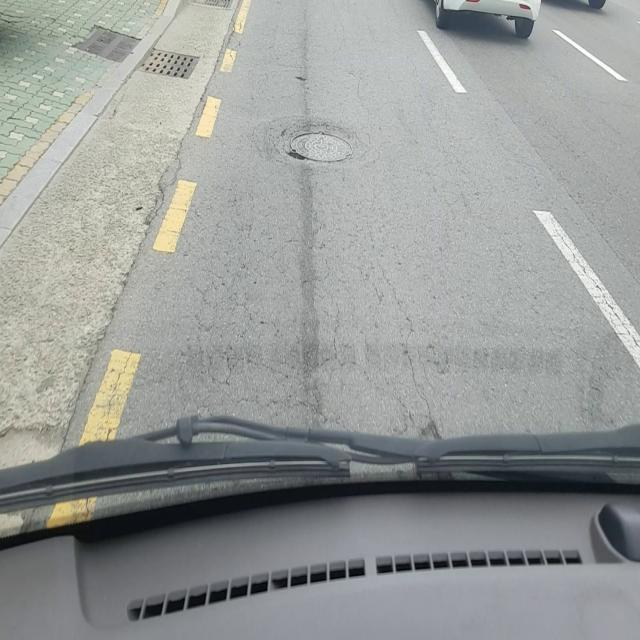pothole: (286, 128, 356, 166)
